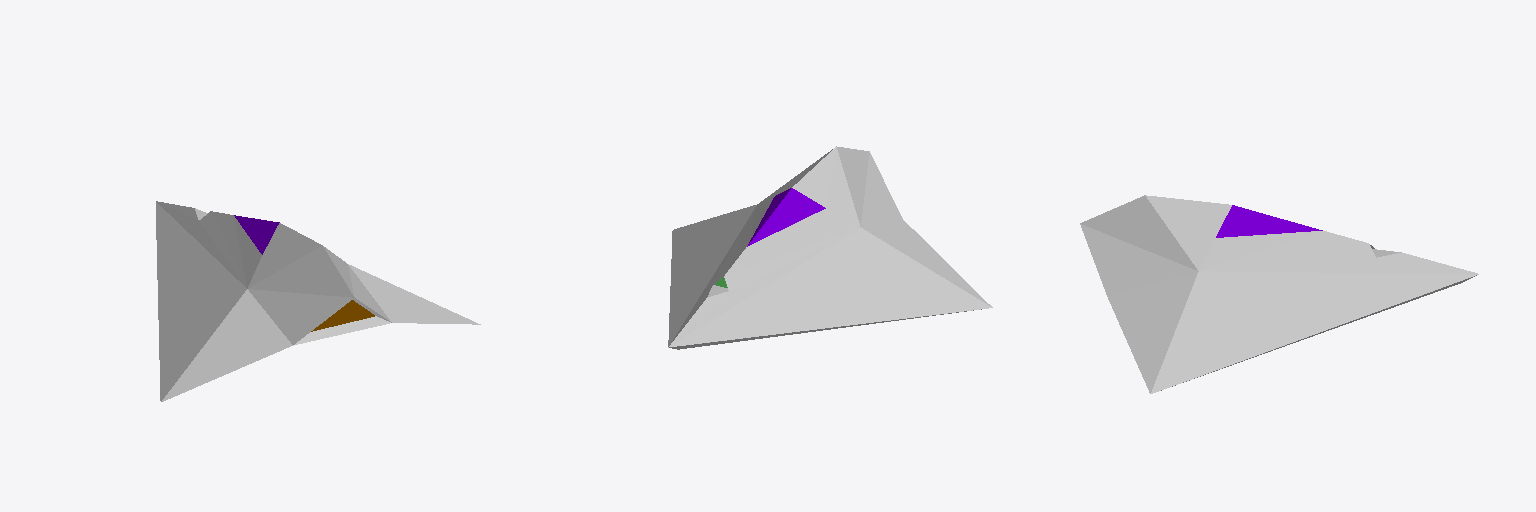
File: fighter.obj
3 renders of one model, left to right at view 1: azimuth 30°, elevation 25°; view 2: azimuth 150°, elevation 25°; view 3: azimuth 270°, elevation 25°, orthographic.
Visible parts, largest first — view 1: LWing, Engine, Body, RWing; view 2: LWing, Body, Engine, RWing; view 3: RWing, Engine, Body.
Part boxes in pixels (bbox=[...]): LWing: bbox=[156, 202, 292, 401]; Engine: bbox=[248, 223, 391, 345]; Body: bbox=[156, 201, 279, 288]; RWing: bbox=[348, 264, 480, 324]; LWing: bbox=[668, 220, 992, 349]; Body: bbox=[669, 188, 860, 346]; Engine: bbox=[760, 146, 902, 226]; RWing: bbox=[668, 205, 756, 346]; RWing: bbox=[1107, 271, 1478, 393]; Engine: bbox=[1080, 195, 1231, 295]; Body: bbox=[1199, 205, 1477, 273].
Size of the model in its own units: 6.84 by 2.46 by 7.4.